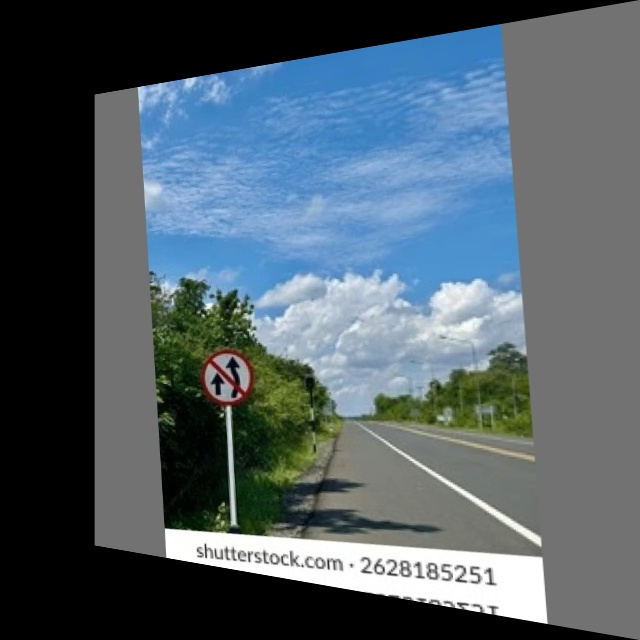Overtaking_Prohibited: (197, 348, 254, 408)
